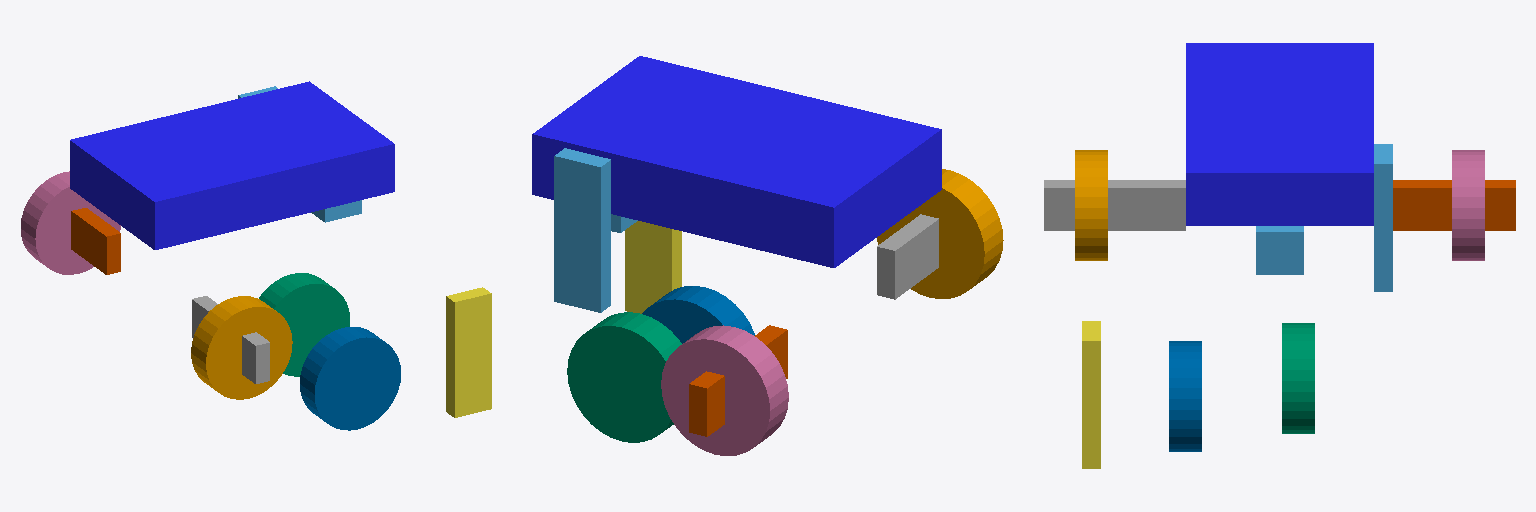
The robot description file, URDF, robot "avular_origin_v10":
<?xml version='1.0'?>

<robot name="avular_origin_v10">

    <material name="blue">
        <color rgba="0.2 0.2 1 1"/>
    </material>

    <!-- Main Body -->
    <link name='main_body'>
        <inertial>
            <mass value="21.0"/>
            <inertia ixx="0.4" ixy="0.0" ixz="0.0" iyy="0.77" iyz="0.0" izz="1.01"/>
        </inertial>
        <collision name='main_body_collision'>
            <origin xyz="0 0 0.3175" rpy="0 0 0.0"/>
            <geometry>
                <box size=".65 .4 .125"/>
            </geometry>
        </collision>
        <visual name='main_body_visual'>
            <origin xyz="0 0 0.3175" rpy="0 0 0.0"/>
            <geometry>
                <box size=".65 .4 .125"/>
            </geometry>
            <material name="blue"/>
        </visual>
    </link>


    <!-- Main Body to Left Front Passive Arm -->
    <joint type="revolute" name="main_body_left_front_passive_arm_joint">
        <origin xyz="0.205 0.2 0.3175" rpy="0 0 0"/>
        <parent link="main_body"/>
        <child link="left_front_passive_arm"/>
        <axis xyz="0 1 0"/>
        <dynamics damping="0.1" stiffness="0.5"/>
        <limit effort="100000.0" velocity="10" lower="-1.5708" upper="1.5708"/>
    </joint>


    <!-- Left Front Passive Arm -->
    <link name="left_front_passive_arm">
        <inertial>
            <mass value="1.0"/>
            <inertia ixx="0.001" ixy="0.0" ixz="0.0" iyy="0.001" iyz="0.0" izz="0.001"/>
        </inertial>
        <collision name="left_front_passive_arm_collision">
            <origin xyz="0.0 0.02 -0.1" rpy="0 0 0"/>
            <geometry>
                <box size="0.1 0.04 0.3"/>
            </geometry>
        </collision>
        <visual name="left_front_passive_arm_visual">
            <origin xyz="0.0 0.02 -0.1" rpy="0 0 0"/>
            <geometry>
                <box size="0.1 0.04 0.3"/>
            </geometry>
        </visual>
    </link>


    <!-- Left Front Passive Arm to Left Front Wheel -->
    <joint type="continuous" name="left_front_passive_arm_left_front_wheel_joint">
        <origin xyz="0 0.04 -0.2" rpy="-1.5707 0 0"/>
        <parent link="left_front_passive_arm"/>
        <child link="left_front_wheel"/>
        <axis xyz="0 1 0"/>
        <dynamics damping="0.1" stiffness="0.5"/>
        <limit effort="100000.0" velocity="10" lower="-1.5708" upper="1.5708"/>
    </joint>


    <link name="left_front_wheel">
        <inertial>
            <mass value="1"/>
            <inertia ixx="0.01" ixy="0.0" ixz="0.0" iyy="0.01" iyz="0.0" izz="0.01"/>
        </inertial>
        <collision name="left_front_wheel_collision">
            <origin xyz="0 0.275 -0.2" rpy="0 0 0"/>
            <geometry>
                <cylinder length=".07" radius=".1175"/>
            </geometry>
        </collision>
        <visual name="left_front_wheel_visual">
            <origin xyz="0.0 0.275 -0.2" rpy="0.0 0.0 0.0"/>
            <geometry>
                <cylinder length=".07" radius=".1175"/>
            </geometry>
        </visual>
    </link>



    <!-- Main Body to Right Front Passive Arm -->
    <joint type="revolute" name="main_body_right_front_passive_arm_joint">
        <origin xyz="0.205 -0.2 0.0" rpy="0 0 0"/>
        <parent link="main_body"/>
        <child link="right_front_passive_arm"/>
        <axis xyz="0 -1 0"/>
        <dynamics damping="0.1" stiffness="0.5"/>
        <limit effort="100000.0" velocity="10" lower="-1.5708" upper="1.5708"/>
    </joint>


    <!-- Right Front Passive Arm -->
    <link name="right_front_passive_arm">
        <inertial>
            <mass value="1.0"/>
            <inertia ixx="0.001" ixy="0.0" ixz="0.0" iyy="0.001" iyz="0.0" izz="0.001"/>
        </inertial>
        <collision name="right_front_passive_arm_collision">
            <origin xyz="0.205 -0.2 -0.1" rpy="0 0 0"/>
            <geometry>
                <box size="0.1 0.04 0.3"/>
            </geometry>
        </collision>
        <visual name="right_front_passive_arm_visual">
            <origin xyz="0.205 -0.2 -0.1" rpy="0 0 0"/>
            <geometry>
                <box size="0.1 0.04 0.3"/>
            </geometry>
        </visual>
    </link>


    <!-- Right Front Passive Arm to Right Front Wheel -->
    <joint type="revolute" name="right_front_passive_arm_right_front_wheel_joint">
        <origin xyz="0 0 -0.2" rpy="-1.5707 0 0"/>
        <parent link="right_front_passive_arm"/>
        <child link="right_front_wheel"/>
        <axis xyz="0 1 0"/>
        <dynamics damping="0.1" stiffness="0.5"/>
        <limit effort="100000.0" velocity="10" lower="-1.5708" upper="1.5708"/>
    </joint>


    <link name="right_front_wheel">
        <inertial>
            <mass value="1"/>
            <inertia ixx="0.01" ixy="0.0" ixz="0.0" iyy="0.01" iyz="0.0" izz="0.01"/>
        </inertial>
        <collision name="right_front_wheel_collision">
            <origin xyz="0.0 0.0 -0.2" rpy="0.0 0.0 0.0"/>
            <geometry>
                <cylinder length=".07" radius=".1175"/>
            </geometry>
        </collision>
        <visual name="right_front_wheel_visual">
            <origin xyz="0.0 0.0 0.0" rpy="0.0 0.0 0.0"/>
            <geometry>
                <cylinder length=".07" radius=".1175"/>
            </geometry>
        </visual>
    </link>


    <!-- Main Body to Left Rear Passive Arm -->
    <joint type="revolute" name="main_body_left_rear_passive_arm_joint">
        <origin xyz="-0.205 0.25 0.056" rpy="0 0 1.5708"/>
        <parent link="main_body"/>
        <child link="left_rear_passive_arm"/>
        <axis xyz="0 1 0"/>
        <dynamics damping="0.1" stiffness="0.5"/>
        <limit effort="100000.0" velocity="10" lower="-1.5708" upper="1.5708"/>
    </joint>


    <!-- Left Rear Passive Arm -->
    <link name="left_rear_passive_arm">
        <inertial>
            <mass value="1.0"/>
            <inertia ixx="0.001" ixy="0.0" ixz="0.0" iyy="0.001" iyz="0.0" izz="0.001"/>
        </inertial>
        <collision name="left_rear_passive_arm_collision">
            <origin xyz="0.1 0 0" rpy="1.5708 0 0"/>
            <geometry>
                <box size="0.3 0.1 0.04"/>
            </geometry>
        </collision>
        <visual name="left_rear_passive_arm_visual">
            <origin xyz="0.1 0 0" rpy="1.5708 0 0"/>
            <geometry>
                <box size="0.3 0.1 0.04"/>
            </geometry>
        </visual>
    </link>


    <!-- Left Rear Passive Arm to Left Rear Wheel -->
    <joint type="revolute" name="left_rear_passive_arm_left_rear_wheel_joint">
        <origin xyz="0.15 0 0" rpy="0 1.5708 0"/>
        <parent link="left_rear_passive_arm"/>
        <child link="left_rear_wheel"/>
        <axis xyz="0 1 0"/>
        <dynamics damping="0.1" stiffness="0.5"/>
        <limit effort="100000.0" velocity="10" lower="-1.5708" upper="1.5708"/>
    </joint>


    <link name="left_rear_wheel">
        <inertial>
            <mass value="1"/>
            <inertia ixx="0.01" ixy="0.0" ixz="0.0" iyy="0.01" iyz="0.0" izz="0.01"/>
        </inertial>
            <collision name="left_rear_wheel_collision">
            <origin xyz="0 0 0.0" rpy="0 0 0"/>
            <geometry>
                <cylinder length=".07" radius=".1175"/>
            </geometry>
        </collision>
        <visual name="left_rear_wheel_visual">
            <origin xyz="0.0 0.0 0.0" rpy="0.0 0.0 0.0"/>
            <geometry>
                <cylinder length=".07" radius=".1175"/>
            </geometry>
        </visual>
    </link>


    <!-- Main Body to Right Rear Passive Arm -->
    <joint type="revolute" name="main_body_right_rear_passive_arm_joint">
        <origin xyz="-0.205 -0.25 0.056" rpy="0 0 -1.5708"/>
        <parent link="main_body"/>
        <child link="right_rear_passive_arm"/>
        <axis xyz="0 -1 0"/>
        <dynamics damping="0.1" stiffness="0.5"/>
        <limit effort="100000.0" velocity="10" lower="-1.5708" upper="1.5708"/>
    </joint>

    <!-- Right Rear Passive Arm -->
    <link name="right_rear_passive_arm">
        <inertial>
            <mass value="1.0"/>
            <inertia ixx="0.001" ixy="0.0" ixz="0.0" iyy="0.001" iyz="0.0" izz="0.001"/>
        </inertial>
        <collision name="right_rear_passive_arm_collision">
            <origin xyz="0.1 0 0" rpy="1.5708 0 0"/>
            <geometry>
                <box size="0.3 0.1 0.04"/>
            </geometry>
        </collision>
        <visual name="right_rear_passive_arm_visual">
            <origin xyz="0.1 0 0" rpy="1.5708 0 0"/>
            <geometry>
                <box size="0.3 0.1 0.04"/>
            </geometry>
        </visual>
    </link>


    <!-- Right Rear Passive Arm to Right Rear Wheel -->
    <joint type="revolute" name="right_rear_passive_arm_right_rear_wheel_joint">
        <origin xyz="0.15 0 0" rpy="0 1.5708 0"/>
        <parent link="right_rear_passive_arm"/>
        <child link="right_rear_wheel"/>
        <axis xyz="0 1 0"/>
        <dynamics damping="0.1" stiffness="0.5"/>
        <limit effort="100000.0" velocity="10" lower="-1.5708" upper="1.5708"/>
    </joint>


    <link name="right_rear_wheel">
        <inertial>
            <mass value="1"/>
            <inertia ixx="0.01" ixy="0.0" ixz="0.0" iyy="0.01" iyz="0.0" izz="0.01"/>
        </inertial>
        <collision name="right_rear_wheel_collision">
            <origin xyz="0 0 0.0" rpy="0 0 0"/>
            <geometry>
                <cylinder length=".07" radius=".1175"/>
            </geometry>
        </collision>
        <visual name="right_rear_wheel_visual">
            <origin xyz="0.0 0.0 0.0" rpy="0.0 0.0 0.0"/>
            <geometry>
                <cylinder length=".07" radius=".1175"/>
            </geometry>
        </visual>
    </link>



    <joint type="fixed" name="ouster_platform_joint">
        <origin xyz="0.272 0 0.189" rpy="0 0 0"/>
        <child link="ouster_base" />
        <parent link="main_body"/>
    </joint>


    <link name="ouster_base">
        <inertial>
            <mass value="1"/>
            <inertia ixx="0.001" ixy="0.0" ixz="0.0" iyy="0.001" iyz="0.0" izz="0.001"/>
        </inertial>
        <visual name="ouster_base">
            <geometry>
                <box size="0.1 0.1 0.1"/>
            </geometry>
        </visual>
        <collision name="ouster_base">
            <origin xyz="0.0 0.0 0.0" rpy="0.0 0.0 0.0"/>
            <geometry>
                <box size="0.1 0.1 0.1"/>
            </geometry>
        </collision>
    </link>


    <joint type="fixed" name="lidar_joint_gazebo">
        <origin xyz="0 0 0.035" rpy="0 0 0"/>
        <child link="lidar_link_gazebo" />
        <parent link="ouster_base"/>
    </joint>


    <link name="lidar_link_gazebo">
        <inertial>
            <mass value="0.1"/>
            <inertia ixx="0.001" ixy="0.0" ixz="0.0" iyy="0.001" iyz="0.0" izz="0.001"/>
        </inertial>
        <collision name="lidar_link_gazebo">
            <origin xyz="0 0 0.0" rpy="0 0 0"/>
            <geometry>
                <cylinder length="0.07" radius="0.04"/>
            </geometry>
        </collision>
    </link>

    <joint type="fixed" name="realsense_joint">
        <origin xyz="0.32 0.03 0.1" rpy="0 0 0"/>
        <child link="camera_link"/>
        <parent link="main_body"/>
    </joint>


    <link name="camera_link">
        <inertial>
            <mass value="0.035"/>
            <inertia ixx="0.001" ixy="0" ixz="0.0" iyy="0.001" iyz="0.0" izz="0.001"/>
        </inertial>
        <collision name="camera_link">
            <origin xyz="0 0.047 0" rpy="0 0 0"/>
            <geometry>
                <box size="0.008 0.13 0.022"/>
            </geometry>
        </collision>
    </link>
 
</robot>

--- What the picture shows (computed from the rendered views, not written in the file) ---
Views: 3 orthographic renders of the robot side by side, from view 1: azimuth 30°, elevation 25°; view 2: azimuth 150°, elevation 25°; view 3: azimuth 270°, elevation 25°.
Model avular_origin_v10 with 12 links and 11 joints (7 revolute, 1 continuous, 3 fixed), rooted at main_body, posed every joint at zero.
Links seen in each view (by area): view 1: main_body, right_front_wheel, right_rear_wheel, right_front_passive_arm, left_rear_wheel, left_front_wheel, left_rear_passive_arm, right_rear_passive_arm, ouster_base; view 2: main_body, left_front_wheel, left_rear_wheel, left_front_passive_arm, right_rear_wheel, right_front_passive_arm, right_rear_passive_arm, right_front_wheel, left_rear_passive_arm; view 3: main_body, right_rear_passive_arm, left_rear_passive_arm, left_front_wheel, right_front_wheel, left_rear_wheel, right_rear_wheel, left_front_passive_arm, right_front_passive_arm, ouster_base.
Boxes of the visible links, x1,y1,x2,y2 form: main_body: (70, 81, 394, 249); right_front_wheel: (300, 327, 400, 430); right_rear_wheel: (191, 296, 292, 399); right_front_passive_arm: (446, 287, 491, 417); left_rear_wheel: (21, 171, 120, 274); left_front_wheel: (259, 273, 349, 376); left_rear_passive_arm: (71, 208, 120, 274); right_rear_passive_arm: (192, 296, 269, 383); ouster_base: (311, 200, 361, 222); main_body: (532, 56, 941, 267); left_front_wheel: (567, 312, 681, 442); left_rear_wheel: (661, 325, 788, 455); left_front_passive_arm: (554, 148, 610, 312); right_rear_wheel: (877, 169, 1003, 298); right_front_passive_arm: (625, 221, 681, 313); right_rear_passive_arm: (877, 214, 938, 299); right_front_wheel: (642, 286, 754, 343); left_rear_passive_arm: (689, 325, 787, 436); main_body: (1186, 43, 1373, 225); right_rear_passive_arm: (1044, 180, 1185, 230); left_rear_passive_arm: (1393, 180, 1515, 230); left_front_wheel: (1282, 323, 1314, 433); right_front_wheel: (1169, 341, 1201, 451); left_rear_wheel: (1452, 150, 1484, 260); right_rear_wheel: (1075, 150, 1107, 260); left_front_passive_arm: (1374, 144, 1392, 291); right_front_passive_arm: (1082, 321, 1100, 468); ouster_base: (1256, 226, 1303, 274).
Bounding box of the posed robot: 0.785 × 1 × 0.6975 m (x, y, z).
Geometry: primitives only (box / cylinder / sphere), no mesh files.